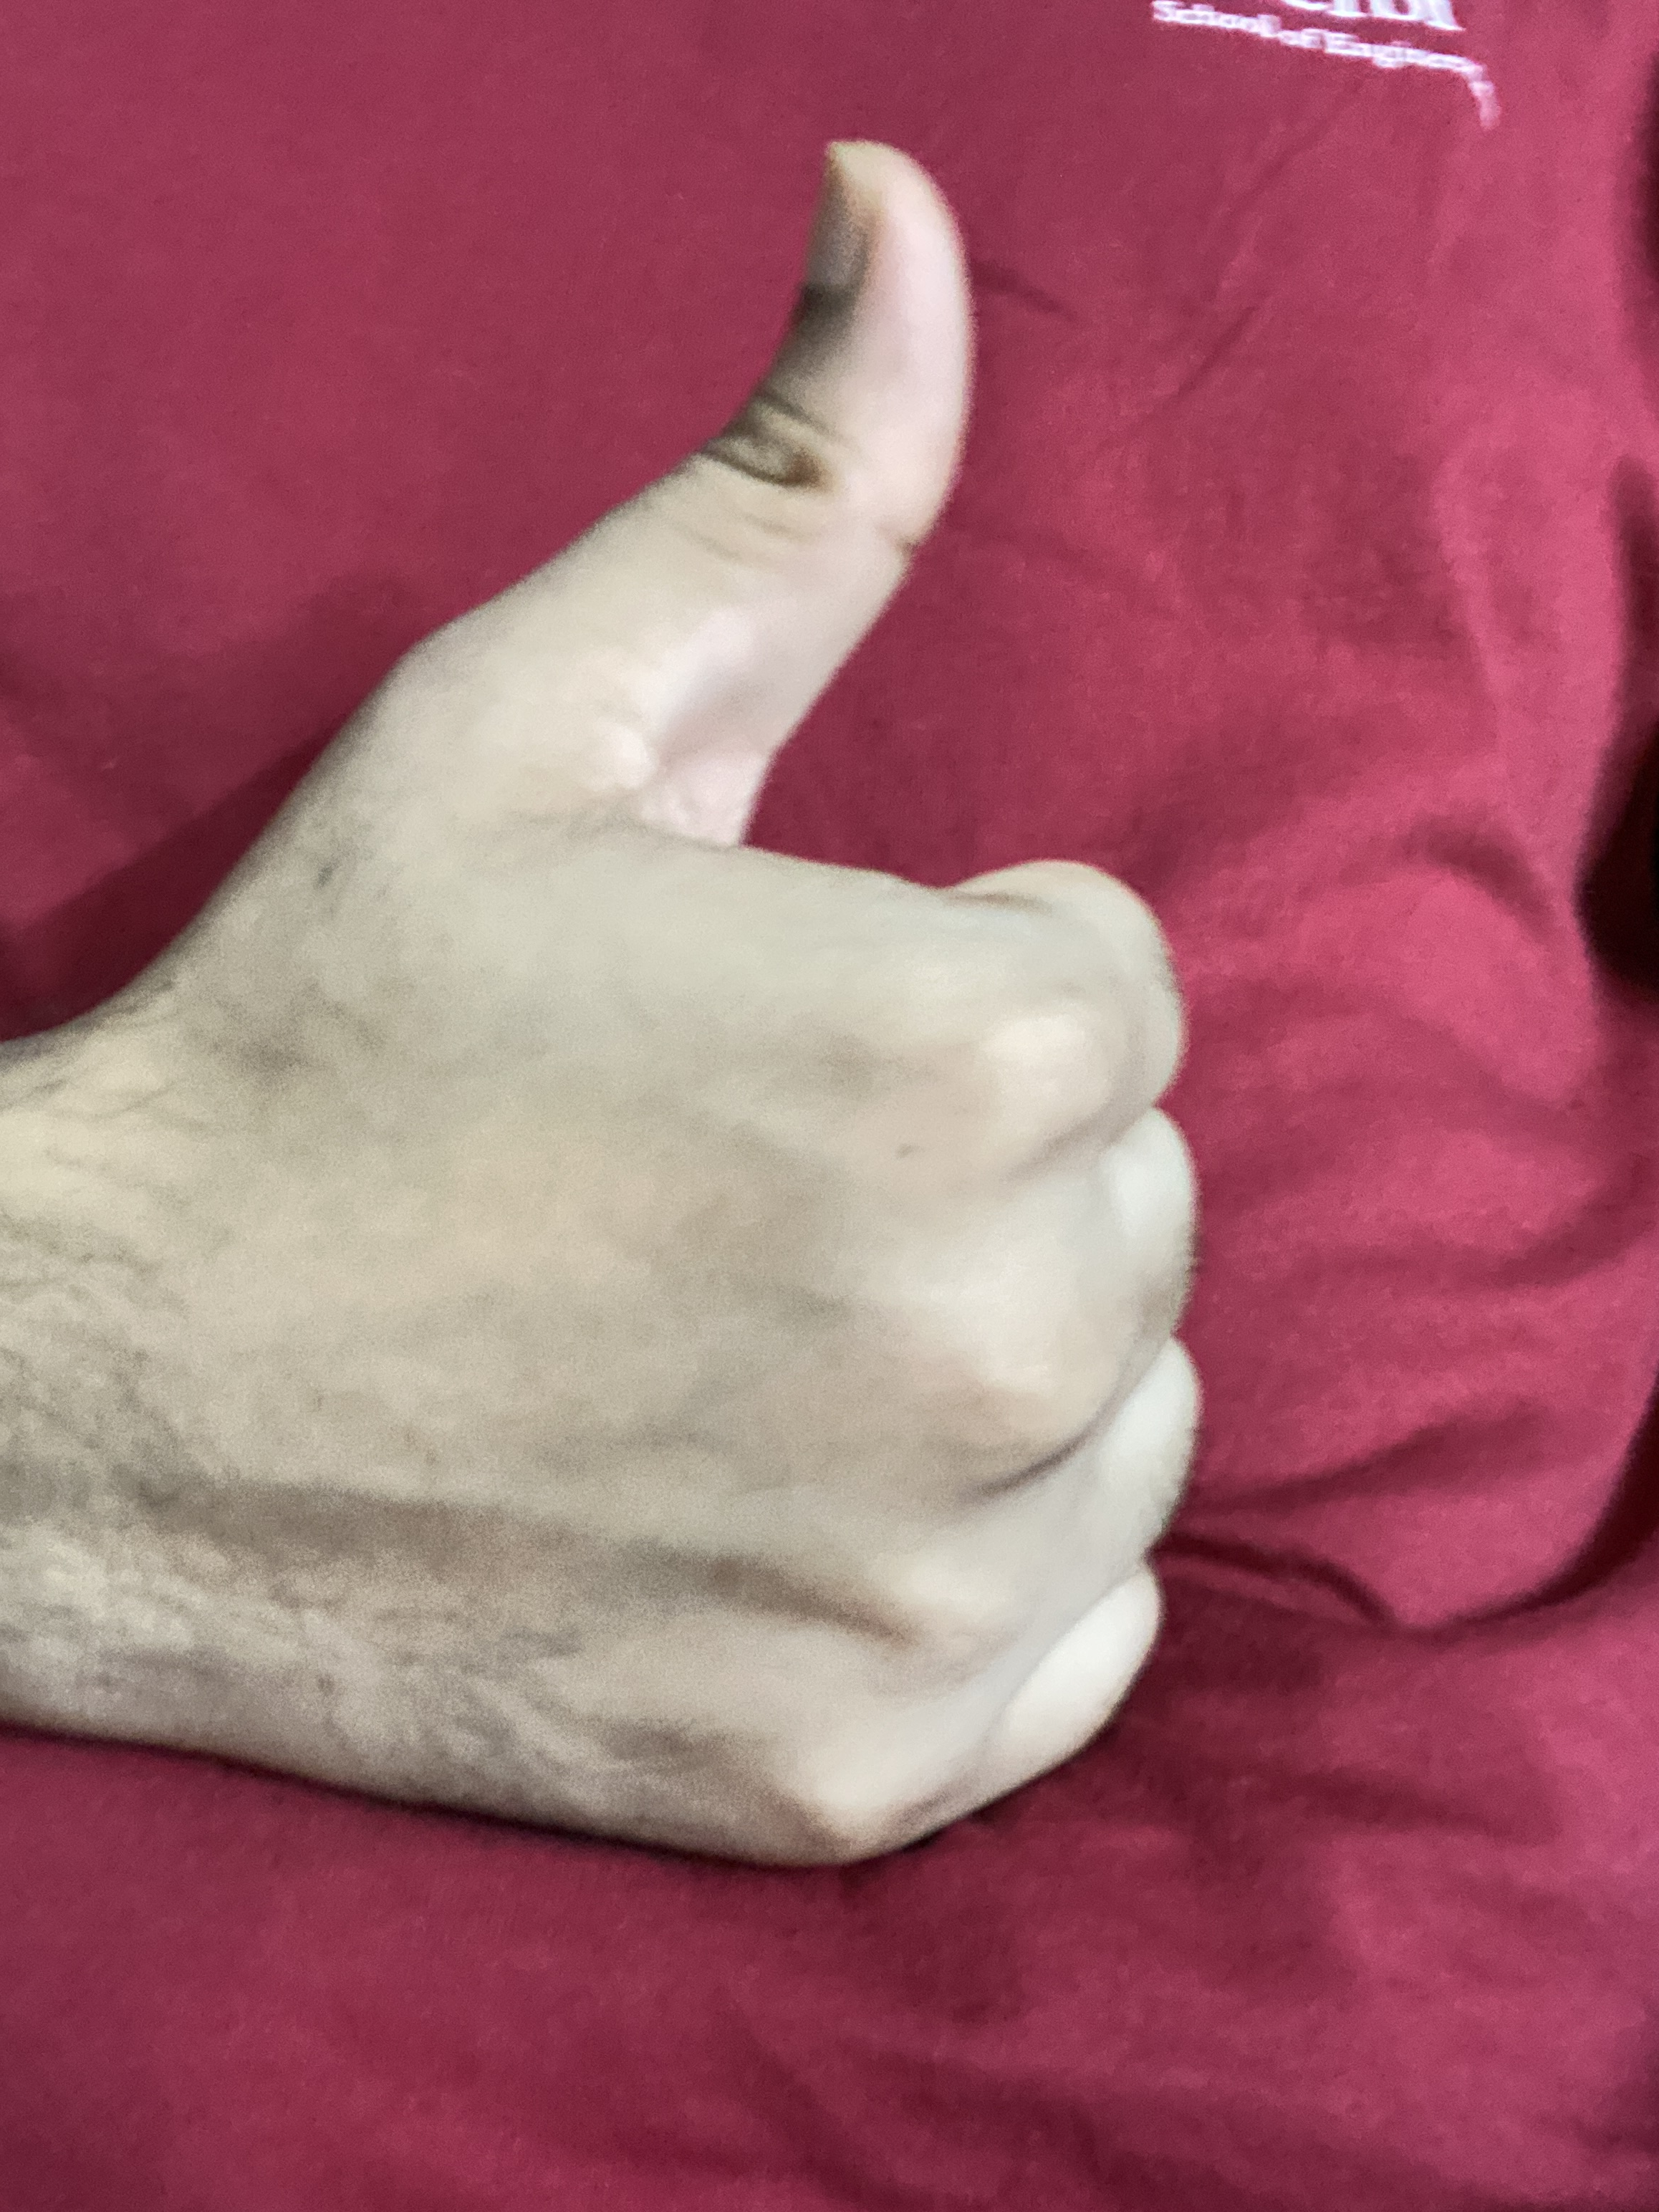up: (129, 176, 1370, 1923)
